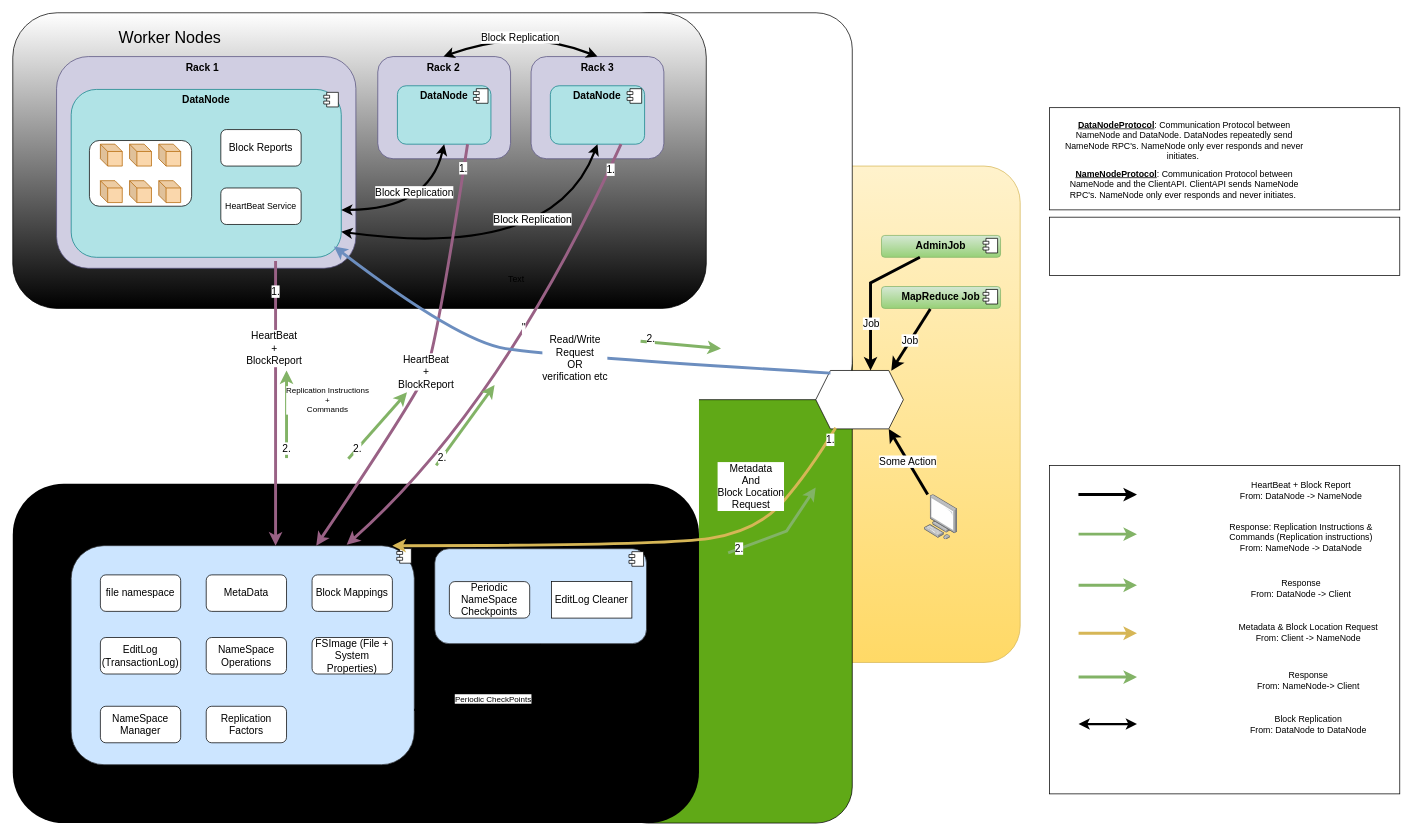
This 1413x836 diagram has some shape labels left out. The shapes that lost their labels are listed below. From the top down, each one's box as (x1, y1, x2, y2) in pixels, then its label:
(89, 140, 192, 206): Block Storage
(1049, 216, 1400, 276): Master - Slave Client - Server Layering (DataNodes, NameNode) Distributed Nodes
(12, 195, 699, 582): DataNodeProtocol
(815, 370, 903, 429): Client API
(611, 326, 852, 823): NameNode Protocol
(434, 548, 646, 644): Backup NameNode
(70, 545, 414, 765): NameNode
